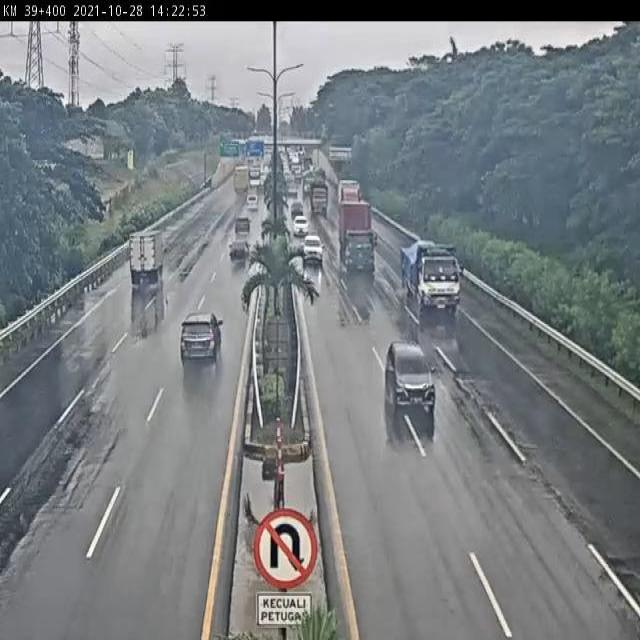truck-l-: (399, 240, 464, 313)
truck-m-: (129, 228, 166, 287)
truck-xl-: (340, 203, 376, 276)
